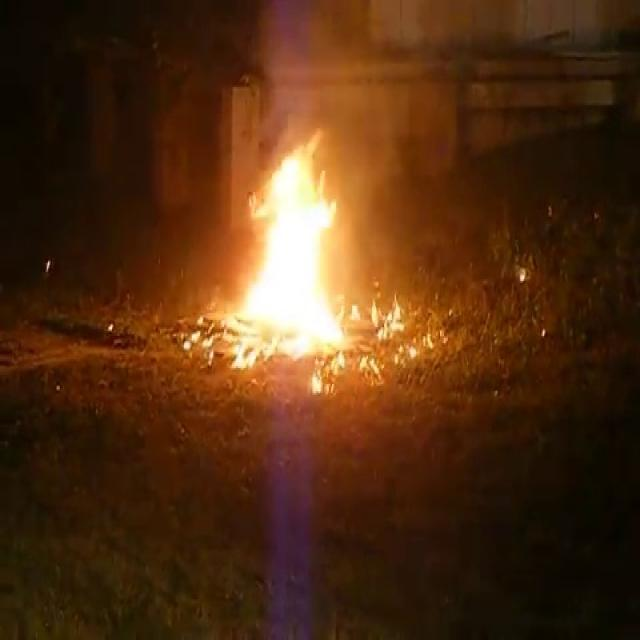Fire: (222, 111, 358, 367)
